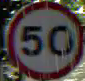Speed limit: (6, 0, 84, 80)
